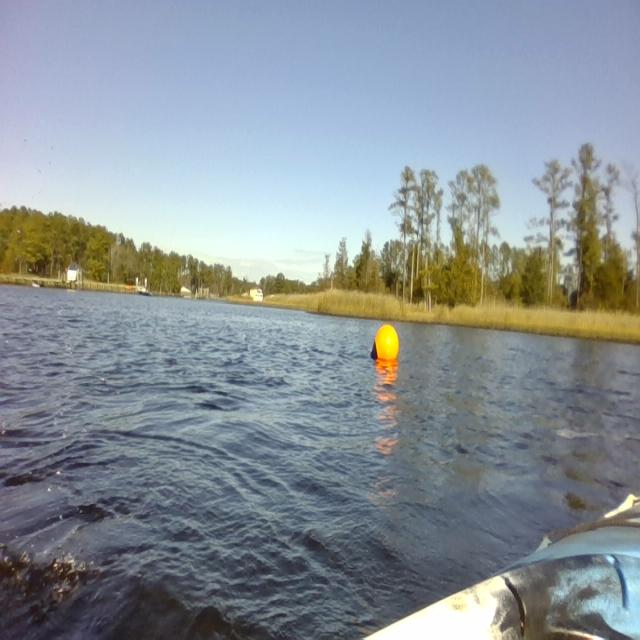Buoy: (364, 318, 404, 368)
